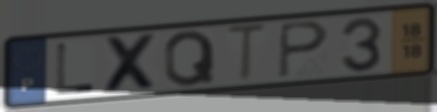3: (338, 15, 385, 74)
L: (54, 41, 98, 97)
P: (277, 20, 331, 81)
Q: (162, 28, 218, 89)
T: (223, 22, 271, 86)
X: (101, 31, 163, 95)
